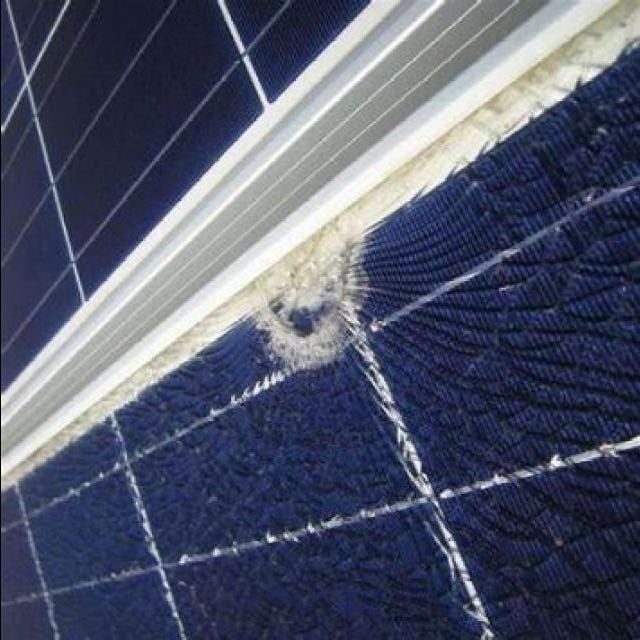cracked: (39, 79, 636, 636)
